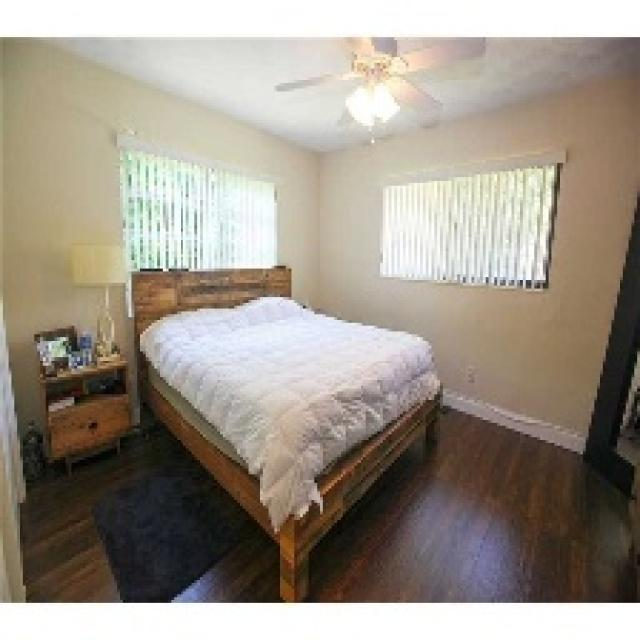Bed: (128, 263, 443, 600)
